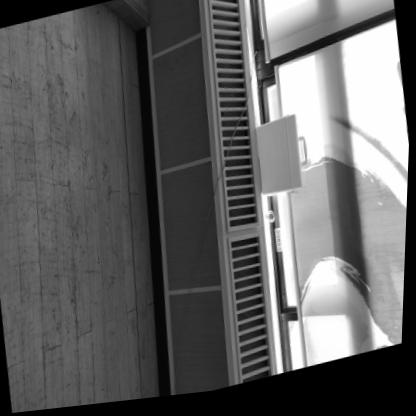DDL: (253, 114, 315, 209)
